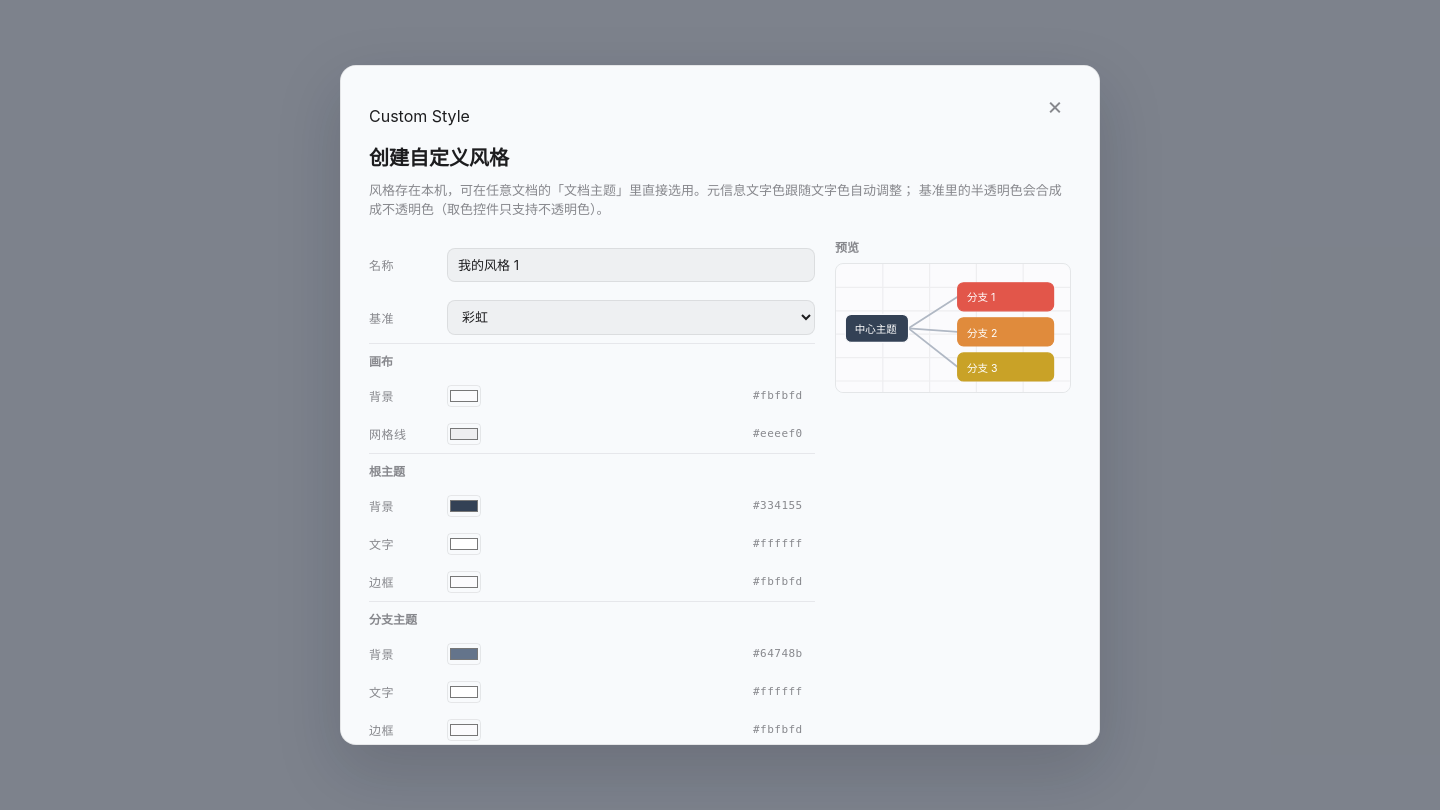
StyleEditor › 清空色板后能再加回来（一次误改不该让用户永久失去缤纷分支）
Type "#123456" into the colour field named "分支主题背景" at (464, 654), box [447, 643, 481, 665]
(page scrolled)
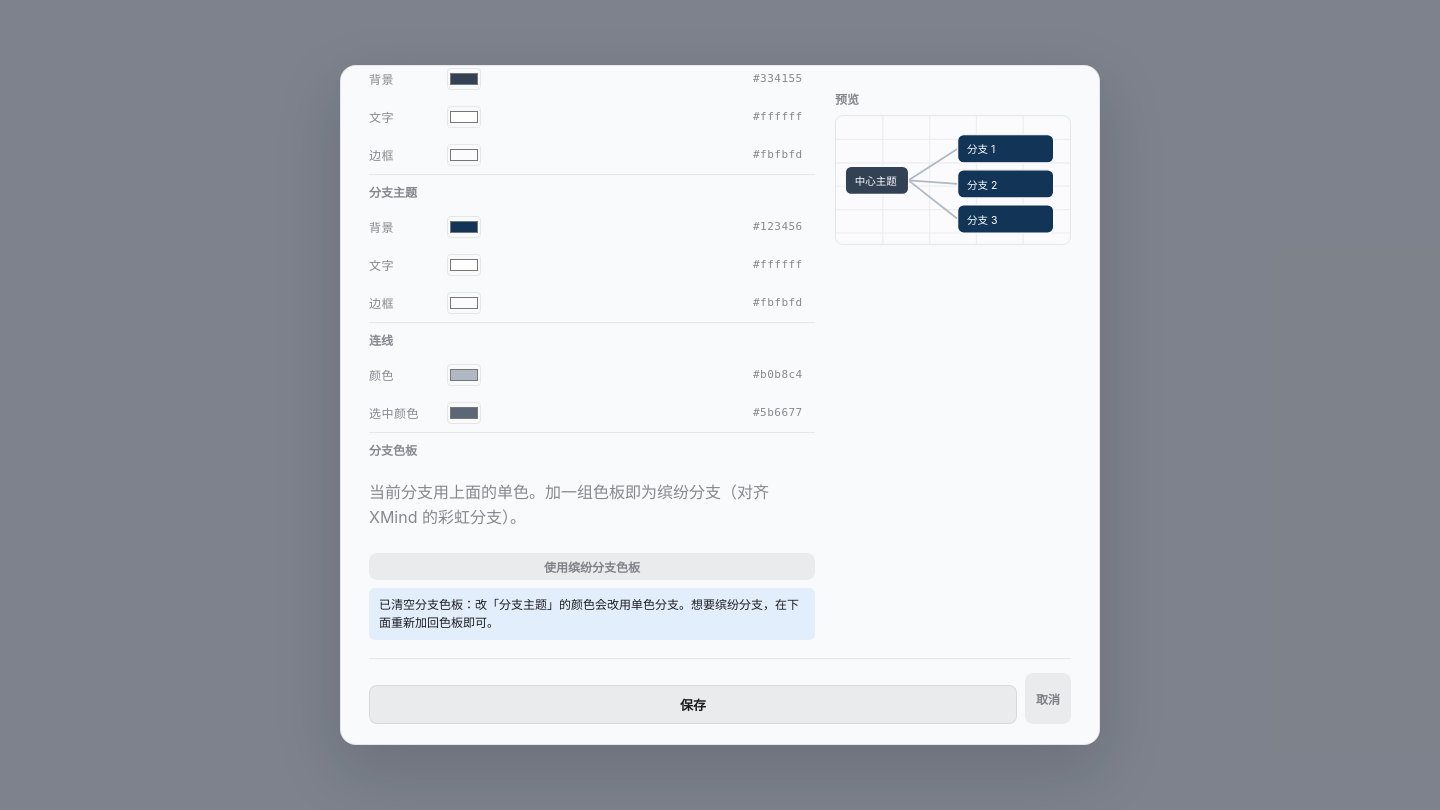
Now the message shows "已清空分支色板", box [379, 597, 799, 630]
Click the button "使用缤纷分支色板" at (592, 566), box [369, 553, 815, 580]
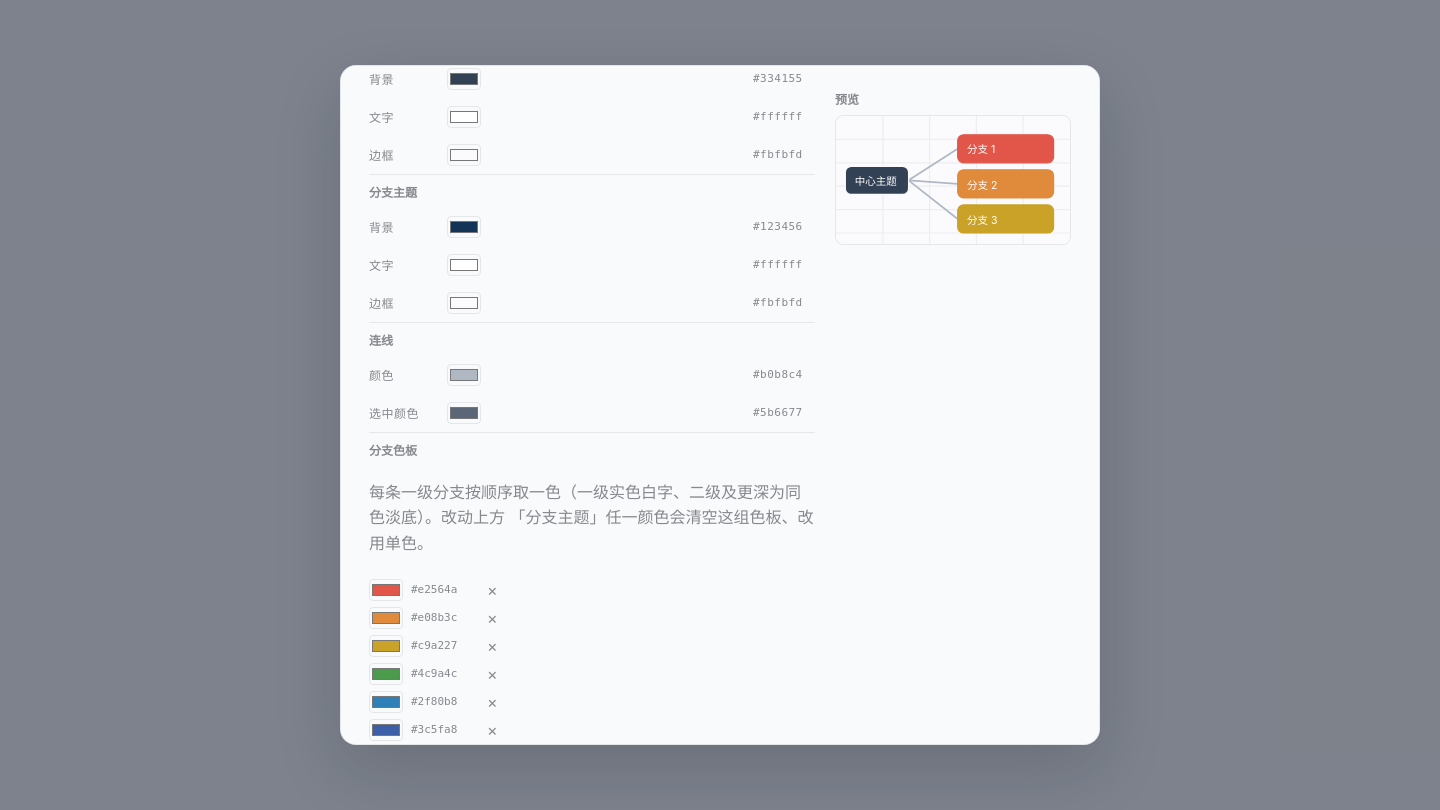
Now the message "已清空分支色板：改「分支主题」的颜色会改用单色分支。想要缤纷分支，在下面重新加回色板即可。" is gone
Now the element with class "style-editor__palette-row" showing "#e2564a ×" is shown, box [369, 579, 504, 601]
